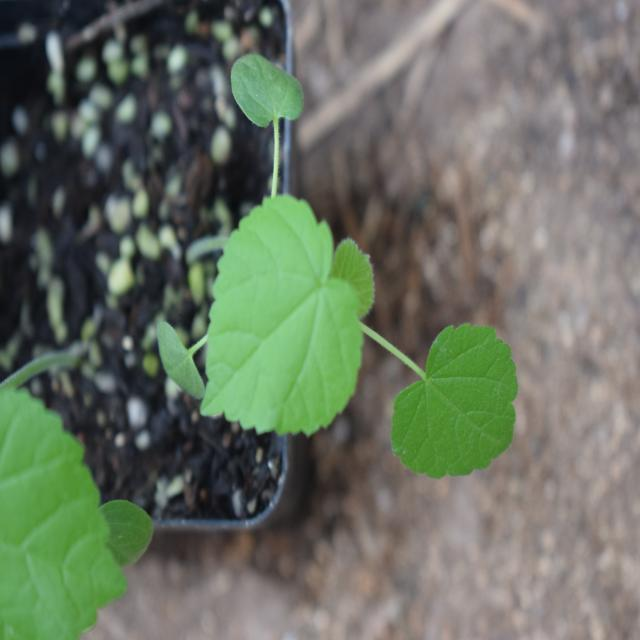abutilon theophrasti: (162, 65, 508, 491)
